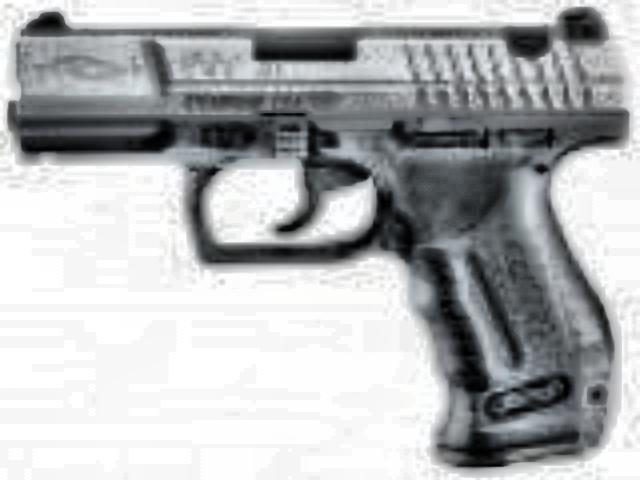pistol: (4, 0, 608, 468)
